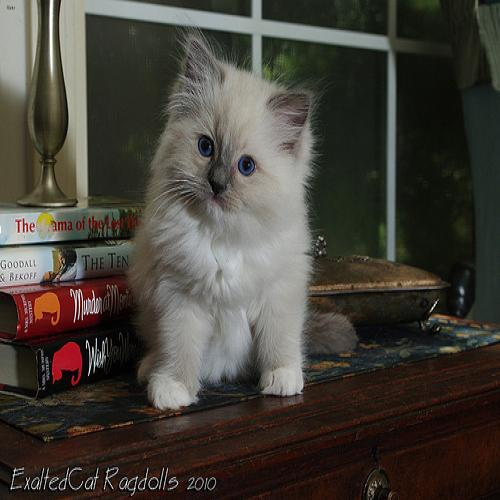ragdoll: (150, 33, 316, 248)
